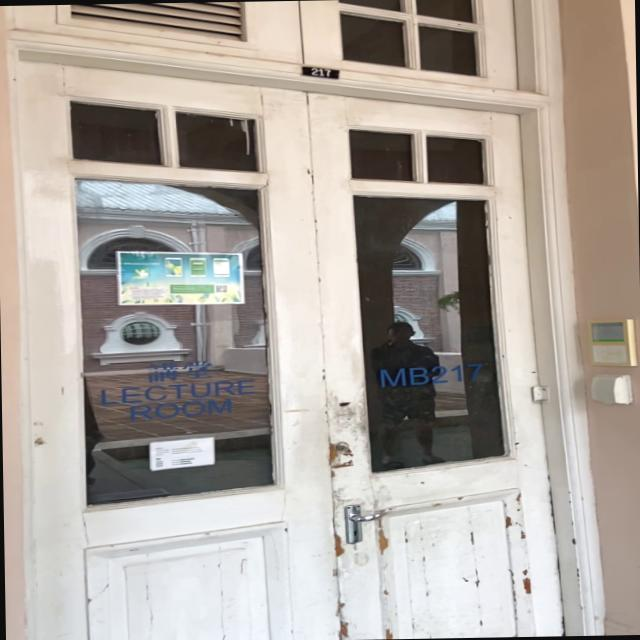room217: (298, 62, 344, 81)
room217Window: (370, 361, 491, 388)
